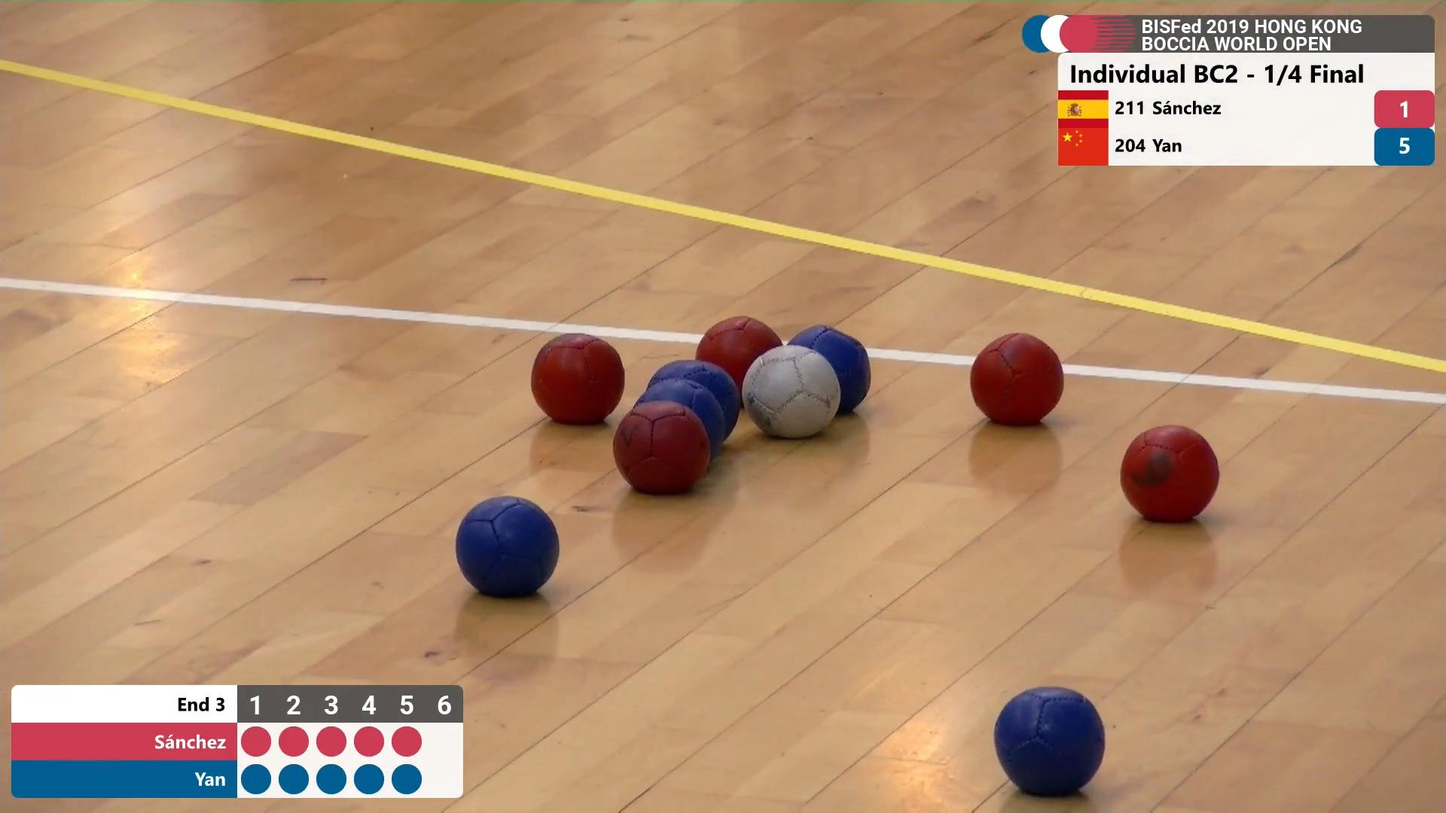blue_ball: (998, 689, 1105, 796), (458, 497, 557, 593), (648, 378, 729, 448), (802, 326, 872, 403), (670, 359, 738, 410)
red_ball: (1118, 422, 1216, 519), (529, 333, 623, 423), (970, 333, 1062, 423), (619, 403, 706, 487), (693, 316, 783, 376)
white_ball: (746, 346, 838, 438)
